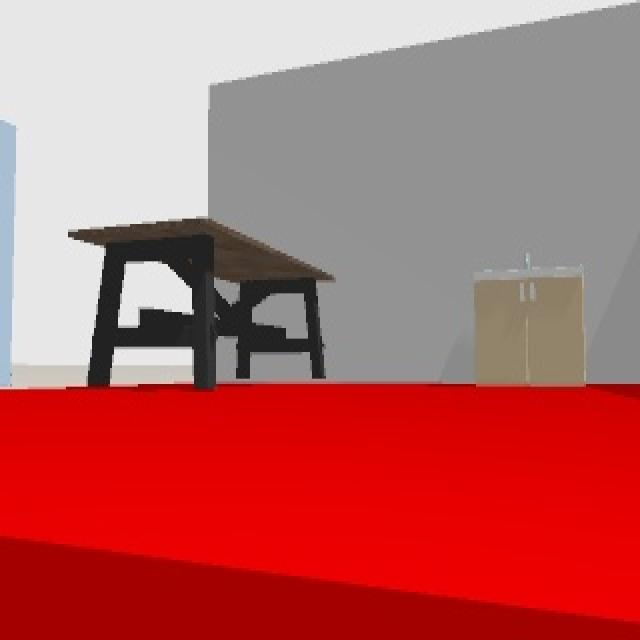dining: (68, 215, 336, 383)
